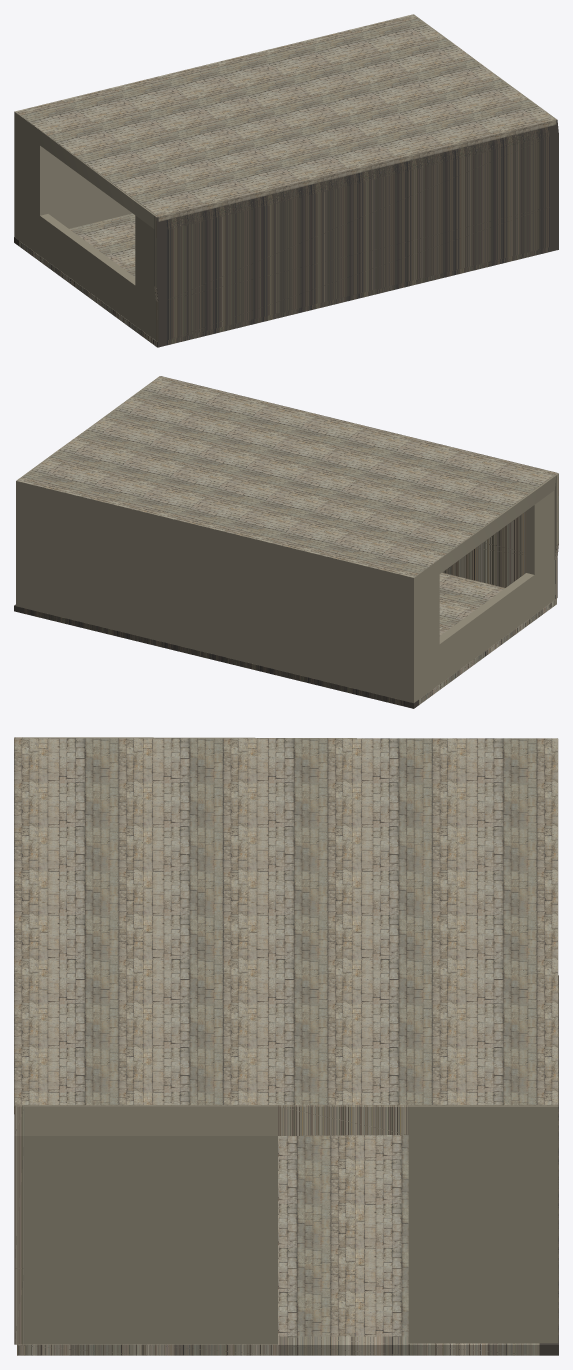
File: House_2.FBX
The picture shows the model from 3 angles, top to bottom: view 1: azimuth 30°, elevation 25°; view 2: azimuth 150°, elevation 25°; view 3: azimuth 270°, elevation 25°; orthographic projection. The views are drawn at different scales.
Visible parts, largest first — view 1: Box001; view 2: Box001; view 3: Box001.
Boxes of the visible parts, box(x1,y1,x2,y2) form: Box001: box(14, 14, 558, 347); Box001: box(14, 376, 558, 708); Box001: box(14, 737, 558, 1355).
Size of the model in its own units: 21.32 by 6.64 by 13.24.
